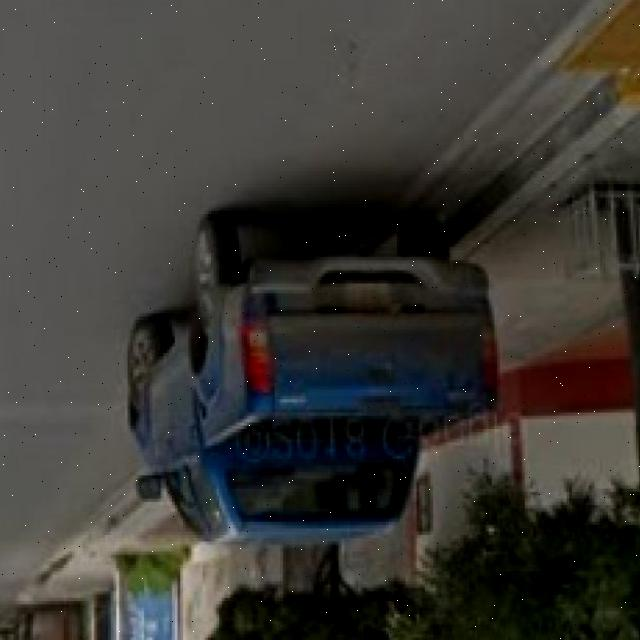car: (130, 202, 494, 543)
